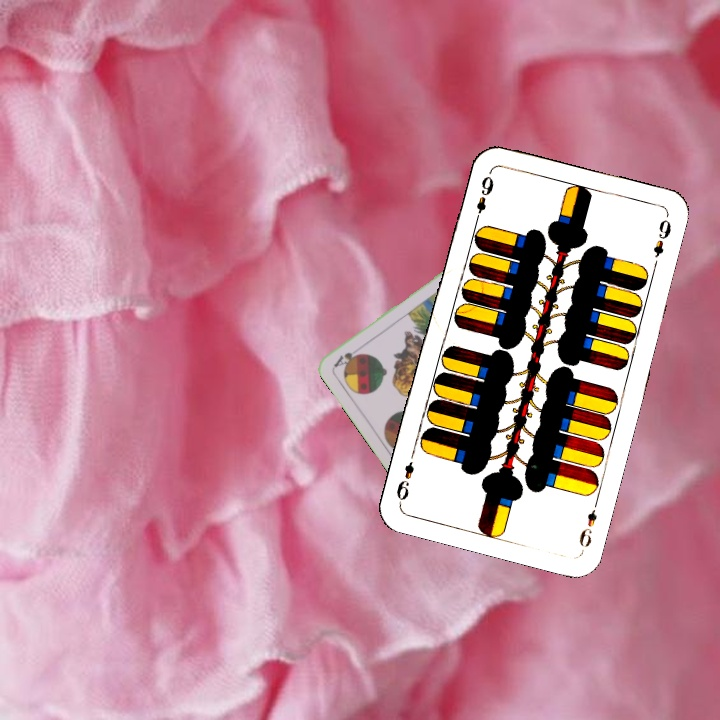E9: (574, 495, 601, 553), (471, 168, 496, 226)
